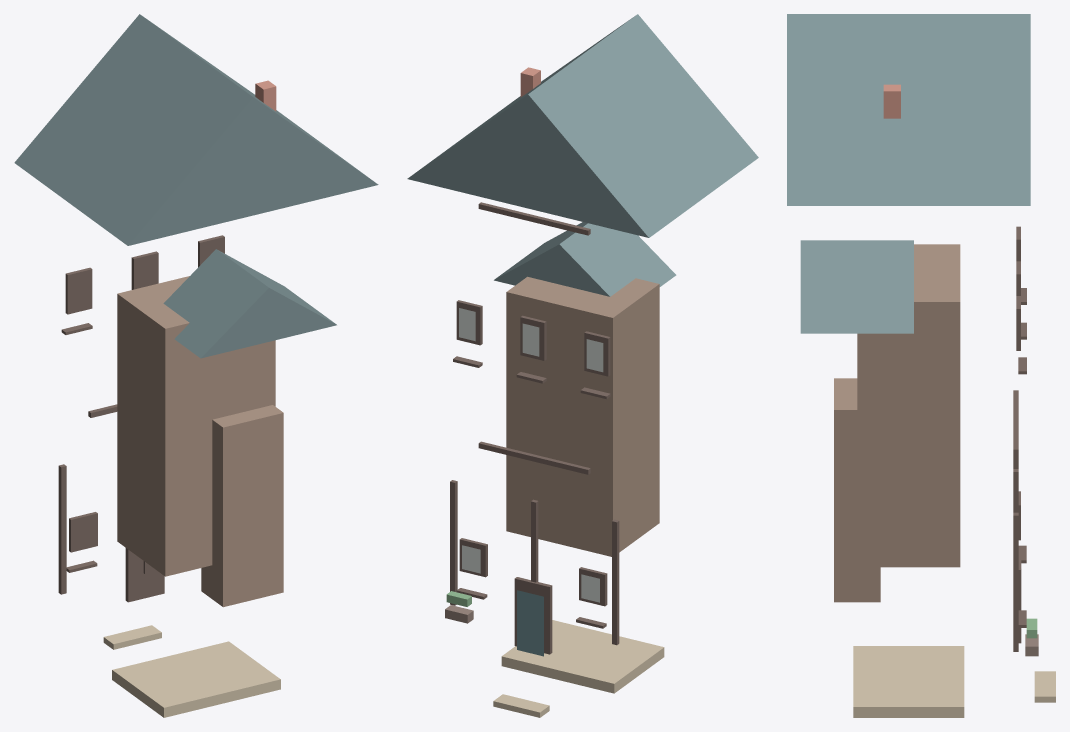
File: harbour-tide-shed-01.glb
3 views of the same model, side by side, from view 1: azimuth 30°, elevation 25°; view 2: azimuth 150°, elevation 25°; view 3: azimuth 270°, elevation 25° (orthographic). The views are drawn at different scales.
Visible parts, largest first — view 1: roof, body, wing, wing_roof, plinth, door_frame, uwf_1_-0.61, up_-0.78, wf_-0.57, uwf_1_0.00, step; view 2: roof, body, wing_roof, plinth, door, door_frame, up_-0.78, up_0.78, beam_1, beam_2, step, up_0.00 (+5 smaller); view 3: roof, body, wing_roof, plinth, wing, up_0.78, step, chimney.
Part boxes in pixels (x1=…): roof: x1=14, y1=14, x2=378, y2=245; body: x1=117, y1=276, x2=275, y2=576; wing: x1=201, y1=405, x2=283, y2=607; wing_roof: x1=163, y1=249, x2=336, y2=358; plinth: x1=112, y1=641, x2=280, y2=717; door_frame: x1=125, y1=548, x2=164, y2=602; uwf_1_-0.61: x1=65, y1=267, x2=92, y2=314; up_-0.78: x1=58, y1=464, x2=66, y2=594; wf_-0.57: x1=69, y1=512, x2=97, y2=552; uwf_1_0.00: x1=131, y1=251, x2=158, y2=289; step: x1=103, y1=625, x2=161, y2=649; roof: x1=407, y1=14, x2=758, y2=237; body: x1=506, y1=276, x2=659, y2=556; wing_roof: x1=494, y1=222, x2=676, y2=296; plinth: x1=501, y1=620, x2=664, y2=693; door: x1=517, y1=590, x2=543, y2=656; door_frame: x1=514, y1=577, x2=552, y2=654; up_-0.78: x1=612, y1=519, x2=619, y2=645; up_0.78: x1=450, y1=480, x2=457, y2=605; beam_1: x1=478, y1=441, x2=590, y2=474; beam_2: x1=478, y1=202, x2=590, y2=235; step: x1=493, y1=694, x2=549, y2=717; up_0.00: x1=531, y1=499, x2=538, y2=582; roof: x1=787, y1=14, x2=1030, y2=205; body: x1=857, y1=244, x2=960, y2=567; wing_roof: x1=800, y1=240, x2=913, y2=333; plinth: x1=853, y1=646, x2=964, y2=717; wing: x1=834, y1=378, x2=880, y2=602; up_0.78: x1=1013, y1=512, x2=1018, y2=651; step: x1=1034, y1=671, x2=1055, y2=702; chimney: x1=883, y1=84, x2=900, y2=118.
Bounding box in the file's own units: 2.33 × 5.61 × 2.02.
